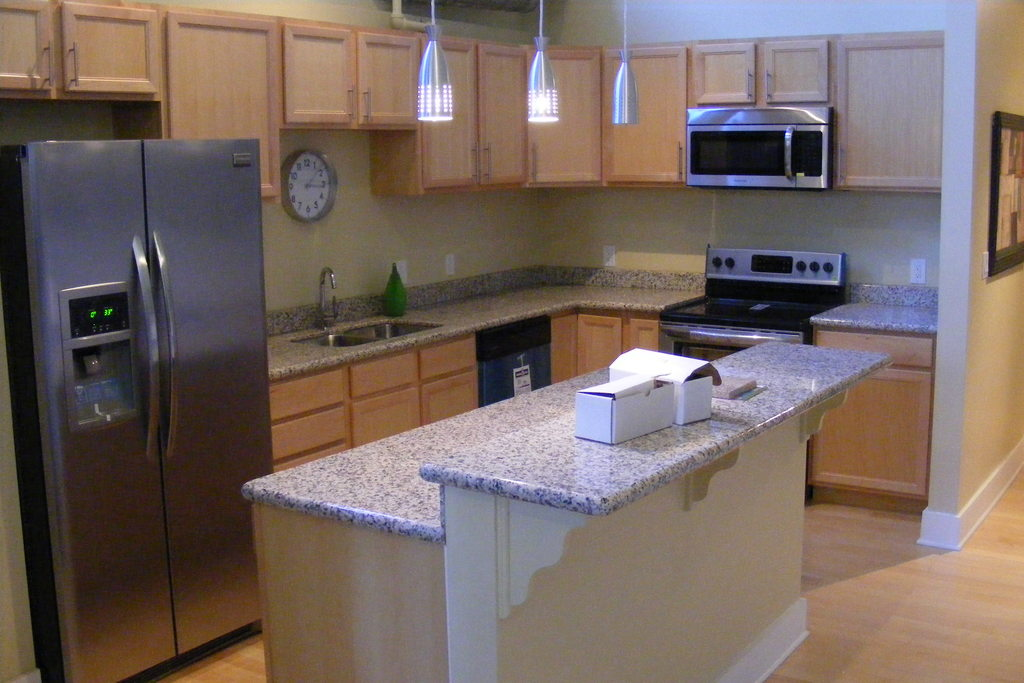cabinet door: (841, 45, 948, 192), (166, 21, 284, 142), (606, 51, 685, 185), (525, 54, 596, 185), (63, 9, 158, 91), (429, 41, 478, 175), (476, 46, 523, 177), (286, 35, 356, 122), (0, 2, 72, 83), (358, 34, 418, 121), (754, 41, 827, 104), (686, 47, 760, 102), (258, 369, 342, 407), (271, 415, 350, 448), (354, 395, 418, 434), (422, 378, 478, 419), (415, 342, 478, 378), (346, 360, 419, 390), (578, 314, 614, 367)
handle: (146, 230, 194, 456), (122, 234, 166, 466), (674, 324, 751, 349), (775, 117, 795, 191), (39, 42, 59, 96), (63, 42, 82, 92), (462, 139, 482, 182), (343, 81, 360, 125), (524, 147, 543, 185), (358, 86, 375, 123), (836, 146, 851, 187), (674, 140, 687, 187), (482, 139, 494, 184), (758, 71, 774, 102), (745, 70, 755, 100)
refrigerator door: (33, 147, 171, 680), (142, 143, 264, 652)
